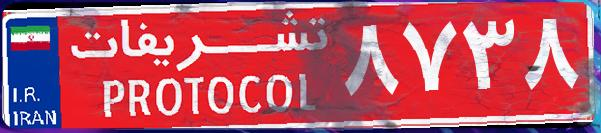3: (460, 20, 520, 115)
7: (400, 20, 460, 115)
8: (340, 20, 400, 115), (520, 20, 580, 115)
تشریفات: (60, 8, 340, 125)
